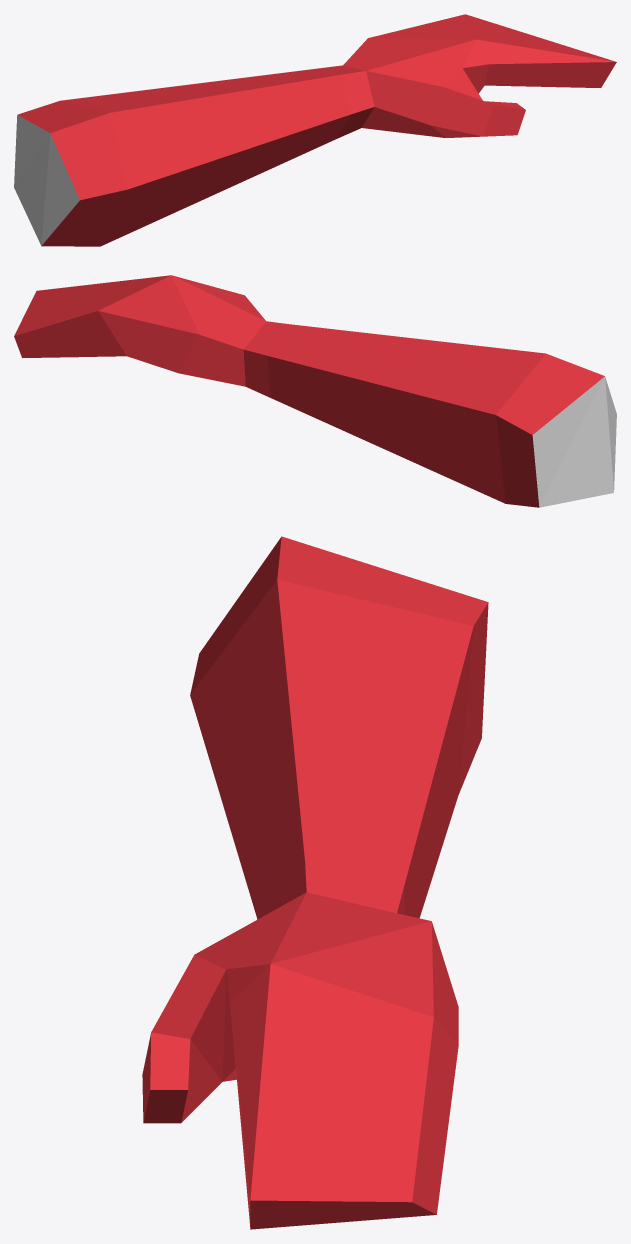
The model's file is MazeLow_HAnd.fbx.
3 renders of one model, top to bottom at view 1: azimuth 30°, elevation 25°; view 2: azimuth 150°, elevation 25°; view 3: azimuth 270°, elevation 25°, orthographic. The views are drawn at different scales.
Visible parts, largest first — view 1: arm_r; view 2: arm_r; view 3: arm_r.
Part boxes in pixels (x1,y1,x2,y2): arm_r: (14, 14, 616, 246); arm_r: (14, 275, 616, 507); arm_r: (142, 536, 488, 1229).
Bounding box in the file's own units: 45.84 × 10.16 × 12.1.
